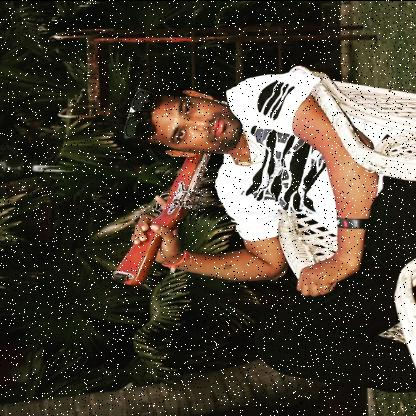rifle: (108, 150, 214, 288)
